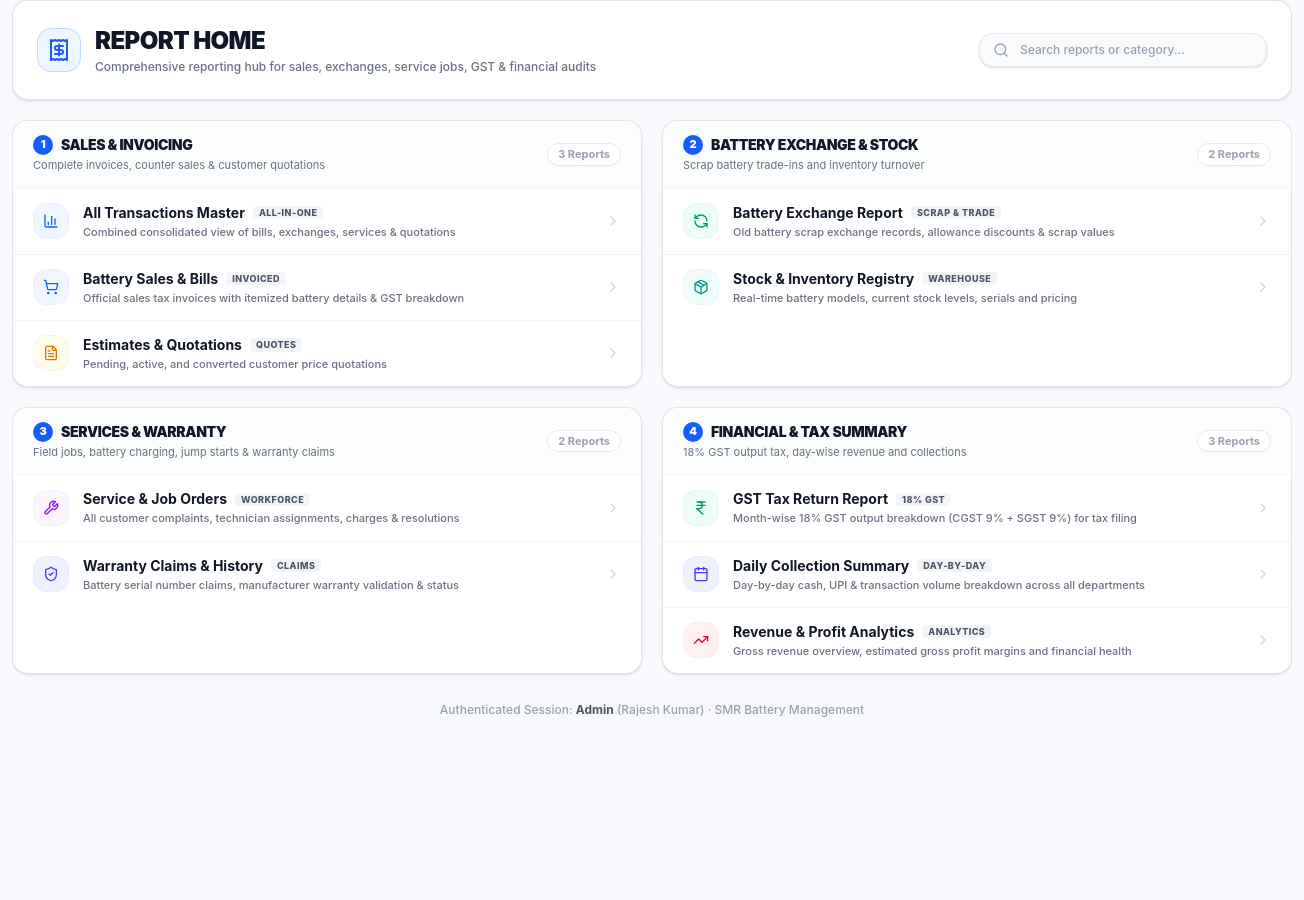
ReportsHome Component › filters reports by keyword when typing in search input
Type "GST" into the field with placeholder "Search reports or category...".
click(1123, 50); type("GST")  # box [979,33,1267,67]
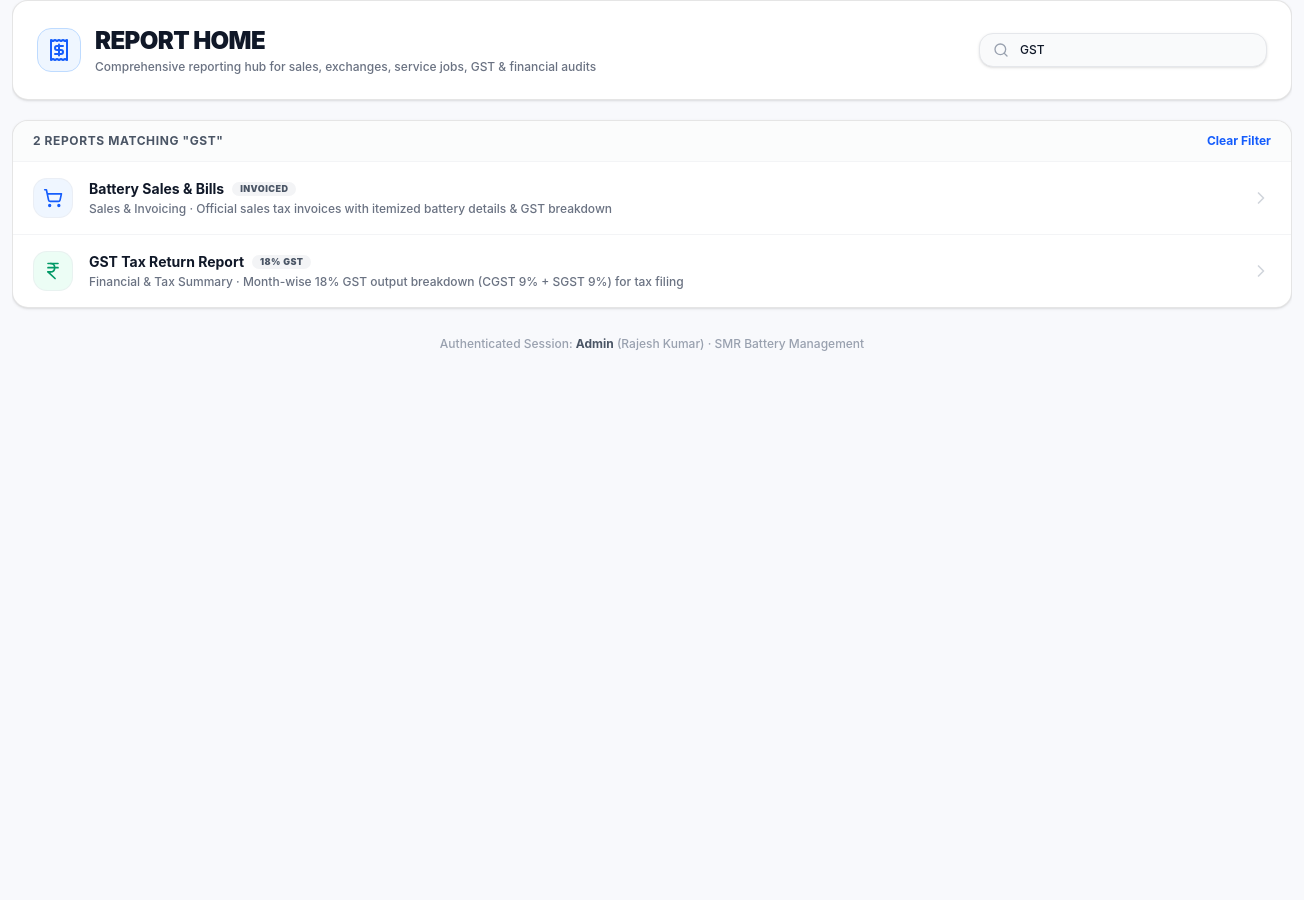
Expected: the text "GST Tax Return Report" is shown, [89,252,244,272]
Expected: the text "2 Reports matching \"GST\"" is shown, [33,133,224,149]
